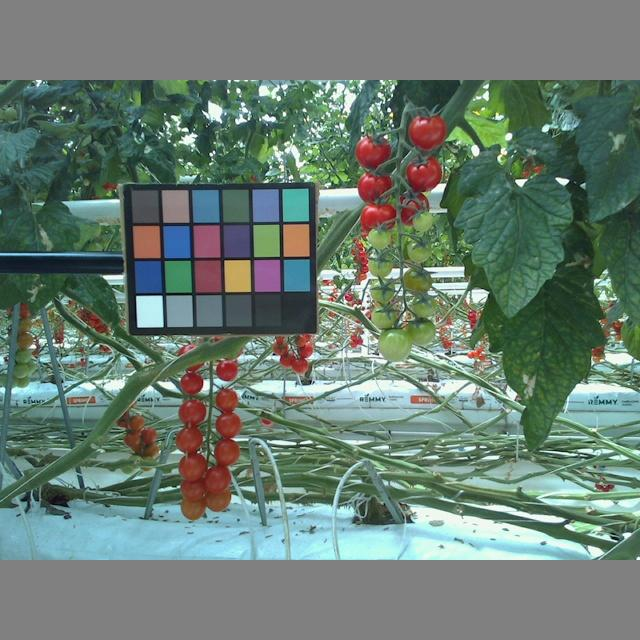green: (377, 326, 412, 361), (401, 263, 434, 295), (405, 317, 437, 347), (366, 249, 394, 276), (369, 276, 396, 303), (410, 292, 437, 319), (406, 237, 432, 264), (369, 306, 397, 329), (369, 224, 392, 250), (415, 210, 435, 233)
pink: (203, 465, 232, 496), (175, 399, 207, 427), (213, 411, 243, 440), (177, 454, 207, 482), (173, 427, 204, 454), (211, 440, 241, 465), (214, 357, 242, 381), (178, 371, 204, 395), (212, 387, 238, 411), (179, 480, 205, 503), (203, 492, 232, 512), (181, 496, 205, 519)
red: (354, 171, 396, 207), (404, 154, 442, 193), (354, 133, 394, 170), (410, 112, 447, 149), (358, 202, 397, 236), (393, 191, 429, 226)
